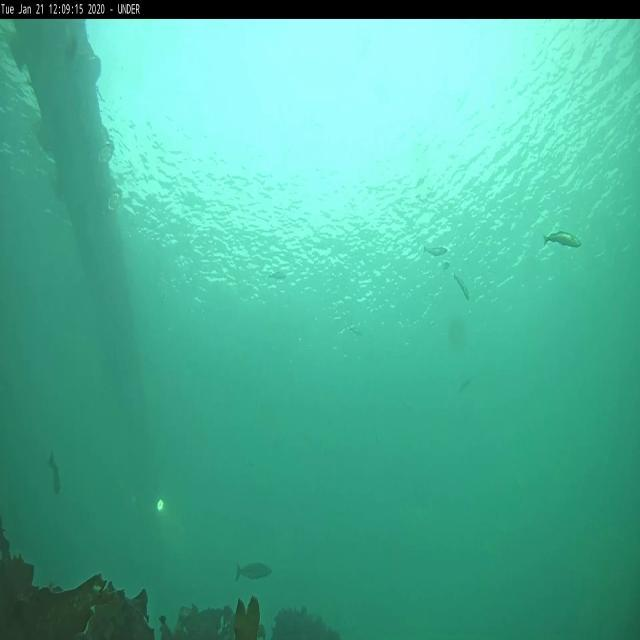fish: (46, 451, 63, 496), (542, 232, 582, 250), (236, 562, 271, 582), (453, 272, 470, 301), (423, 244, 448, 256), (458, 377, 472, 395), (270, 272, 286, 283), (348, 327, 364, 337), (442, 262, 449, 269)
